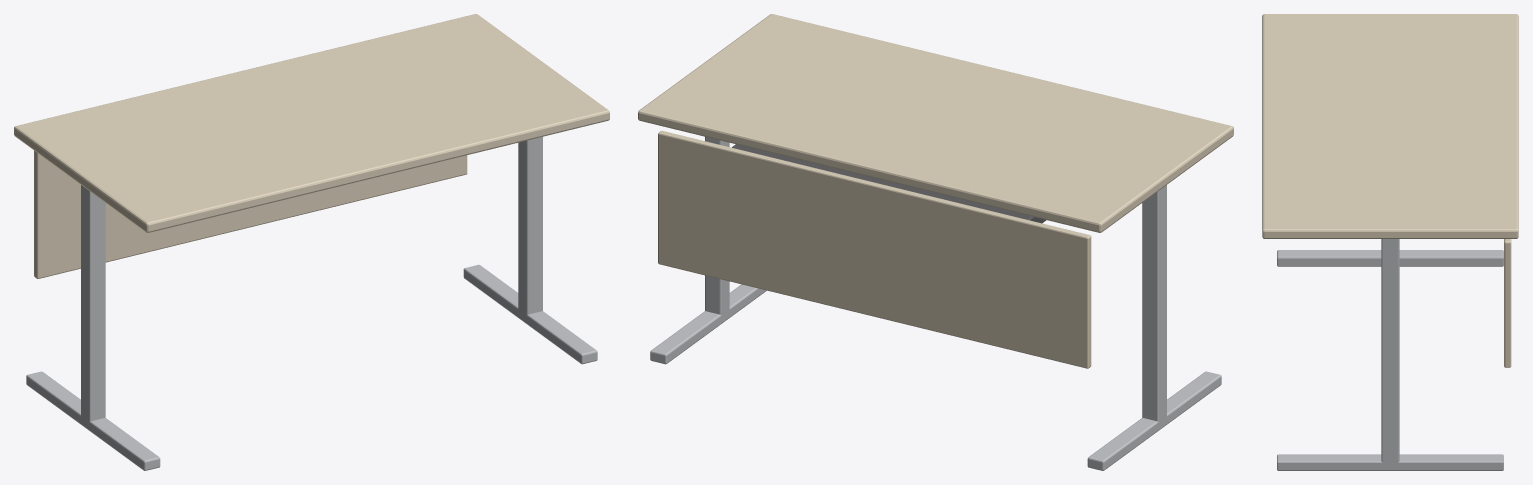
File: office_desk.fbx
The picture shows the model from 3 angles, left to right: view 1: azimuth 30°, elevation 25°; view 2: azimuth 150°, elevation 25°; view 3: azimuth 270°, elevation 25°; orthographic projection. The views are drawn at different scales.
Visible parts, largest first — view 1: office_desk; view 2: office_desk; view 3: office_desk.
Boxes of the visible parts, x1=… form: office_desk: x1=14, y1=14, x2=609, y2=470; office_desk: x1=638, y1=14, x2=1233, y2=470; office_desk: x1=1262, y1=14, x2=1518, y2=470.
Bounding box in the file's own units: 1.4 × 0.735 × 0.7.
